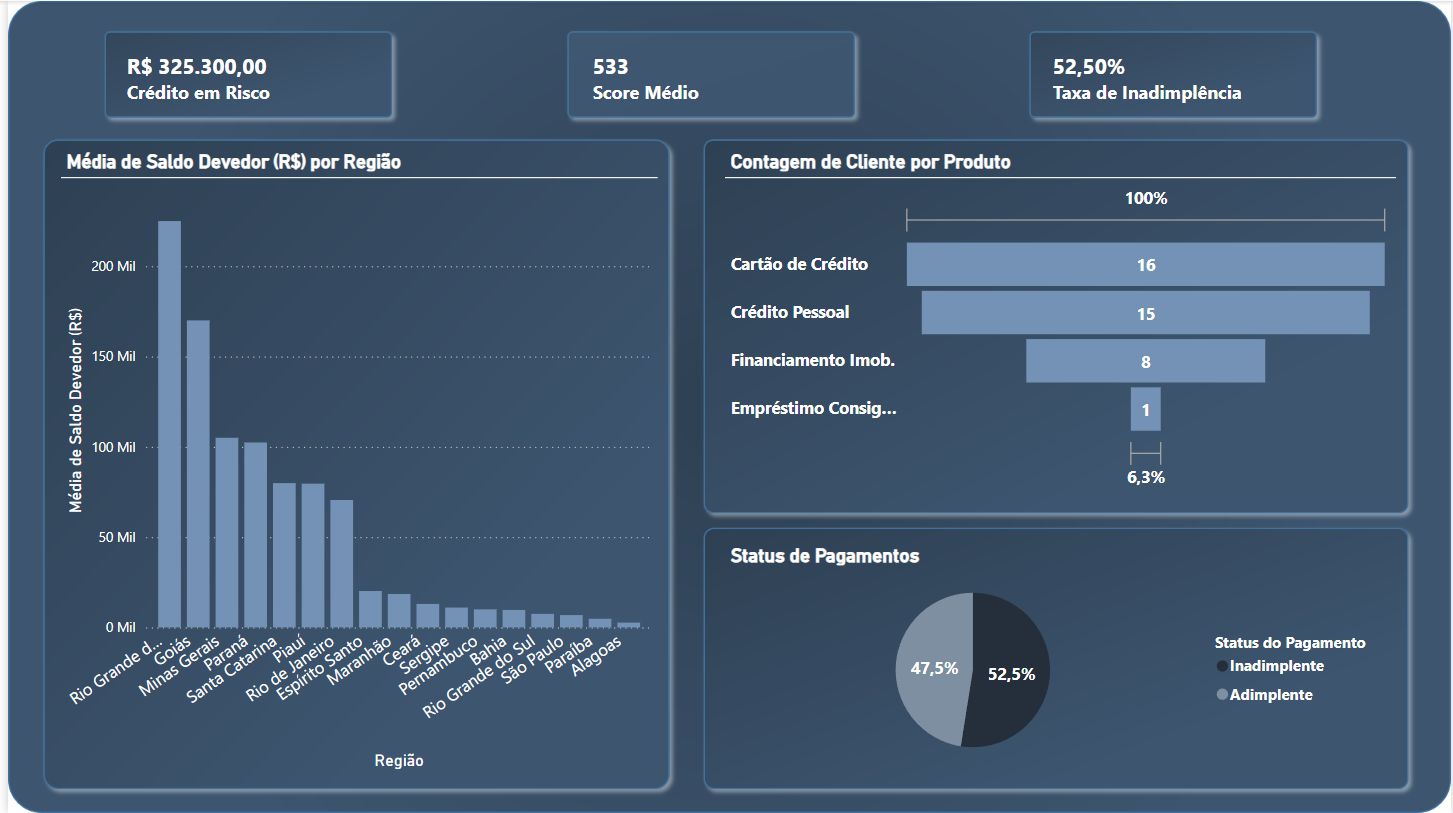

What the dashboard file says about the page in this screenshot:
{"tool":"powerbi","page":{"name":"Página 1","canvas":[1280,720],"ordinal":0},"visuals":[{"type":"multiRowCard","fields":{"Values":["Planilha1.Crédito em Risco"]},"box":[100.6,40,226.5,66.4],"z":0},{"type":"multiRowCard","fields":{"Values":["Planilha1.Score Médio"]},"box":[513.3,40,224.4,66.7],"z":1000},{"type":"multiRowCard","fields":{"Values":["Planilha1.Taxa de Inadimplência"]},"box":[921.1,40,240,66.7],"z":2000},{"type":"columnChart","fields":{"Category":["Planilha1.Região"],"Y":["Avg(Planilha1.Saldo Devedor (R$))"]},"box":[46.7,132.2,528.9,553.3],"z":3000},{"type":"pieChart","title":"Status de Pagamentos","fields":{"Category":["Planilha1.Status do Pagamento"],"Y":["CountNonNull(Planilha1.Cliente ID)"]},"box":[635.6,481.1,595.6,204.4],"z":4000},{"type":"funnel","title":"Contagem de Cliente por Produto","fields":{"Y":["CountNonNull(Planilha1.Cliente ID)"],"Category":["Planilha1.Produto"]},"box":[635.8,132.1,595,305],"z":5000}]}

Visuals, with their boxes in screenshot pixels (x1, y1, x2, y2), scaled from the page's 1280x720 canvas onto the 1453x813 screenshot:
multiRowCard - Planilha1.Crédito em Risco: rect(114, 45, 371, 120)
multiRowCard - Planilha1.Score Médio: rect(583, 45, 837, 120)
multiRowCard - Planilha1.Taxa de Inadimplência: rect(1046, 45, 1318, 120)
columnChart - Planilha1.Região x Avg(Planilha1.Saldo Devedor (R$)): rect(53, 149, 653, 774)
"Status de Pagamentos" pieChart: rect(722, 543, 1398, 774)
"Contagem de Cliente por Produto" funnel: rect(722, 149, 1397, 494)
